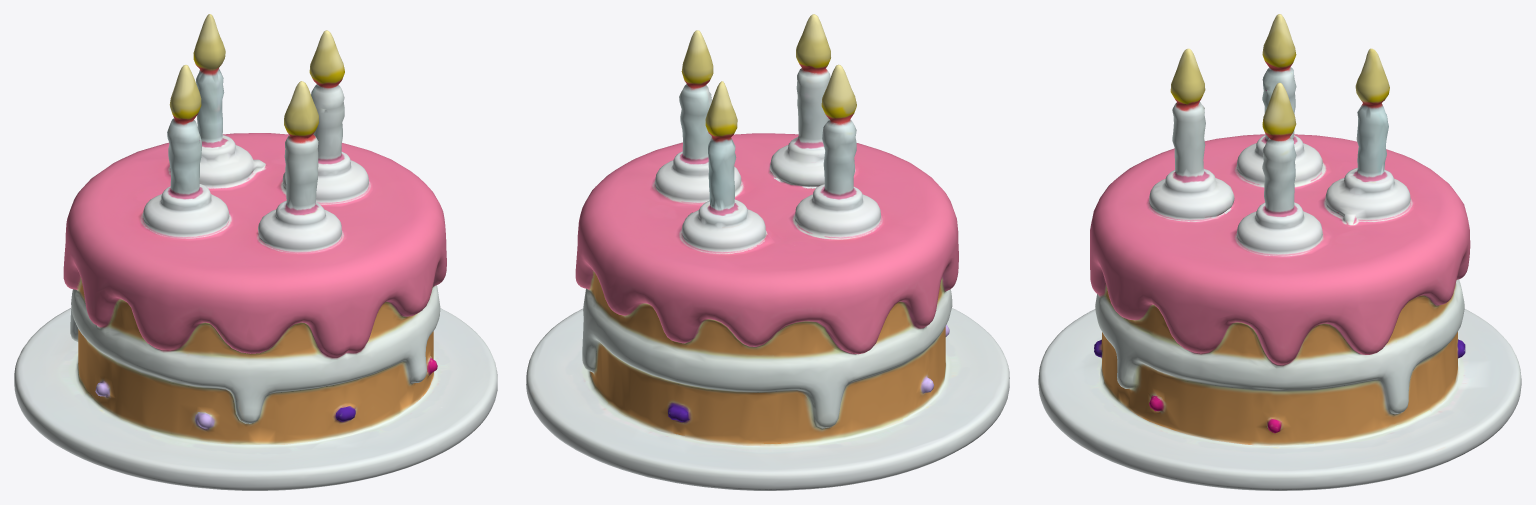
The picture shows the model from 3 angles, left to right: view 1: azimuth 30°, elevation 25°; view 2: azimuth 150°, elevation 25°; view 3: azimuth 270°, elevation 25°; orthographic projection.
Visible parts, largest first — view 1: cake; view 2: cake; view 3: cake.
Part boxes in pixels (<box>): cake: <box>14,14,497,490</box>; cake: <box>526,14,1009,490</box>; cake: <box>1038,14,1521,490</box>.
Bounding box in the file's own units: 1.9 × 1.49 × 1.91.
1 material, 1 textured.
